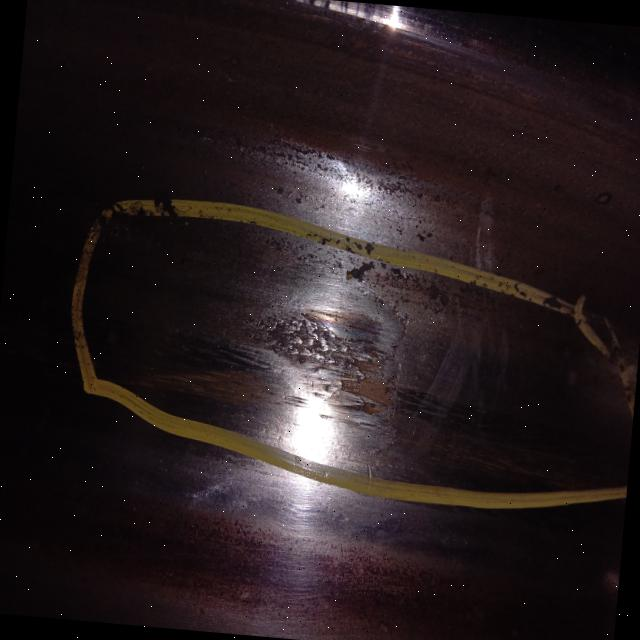Peeling: (218, 262, 493, 478), (187, 120, 366, 201)
